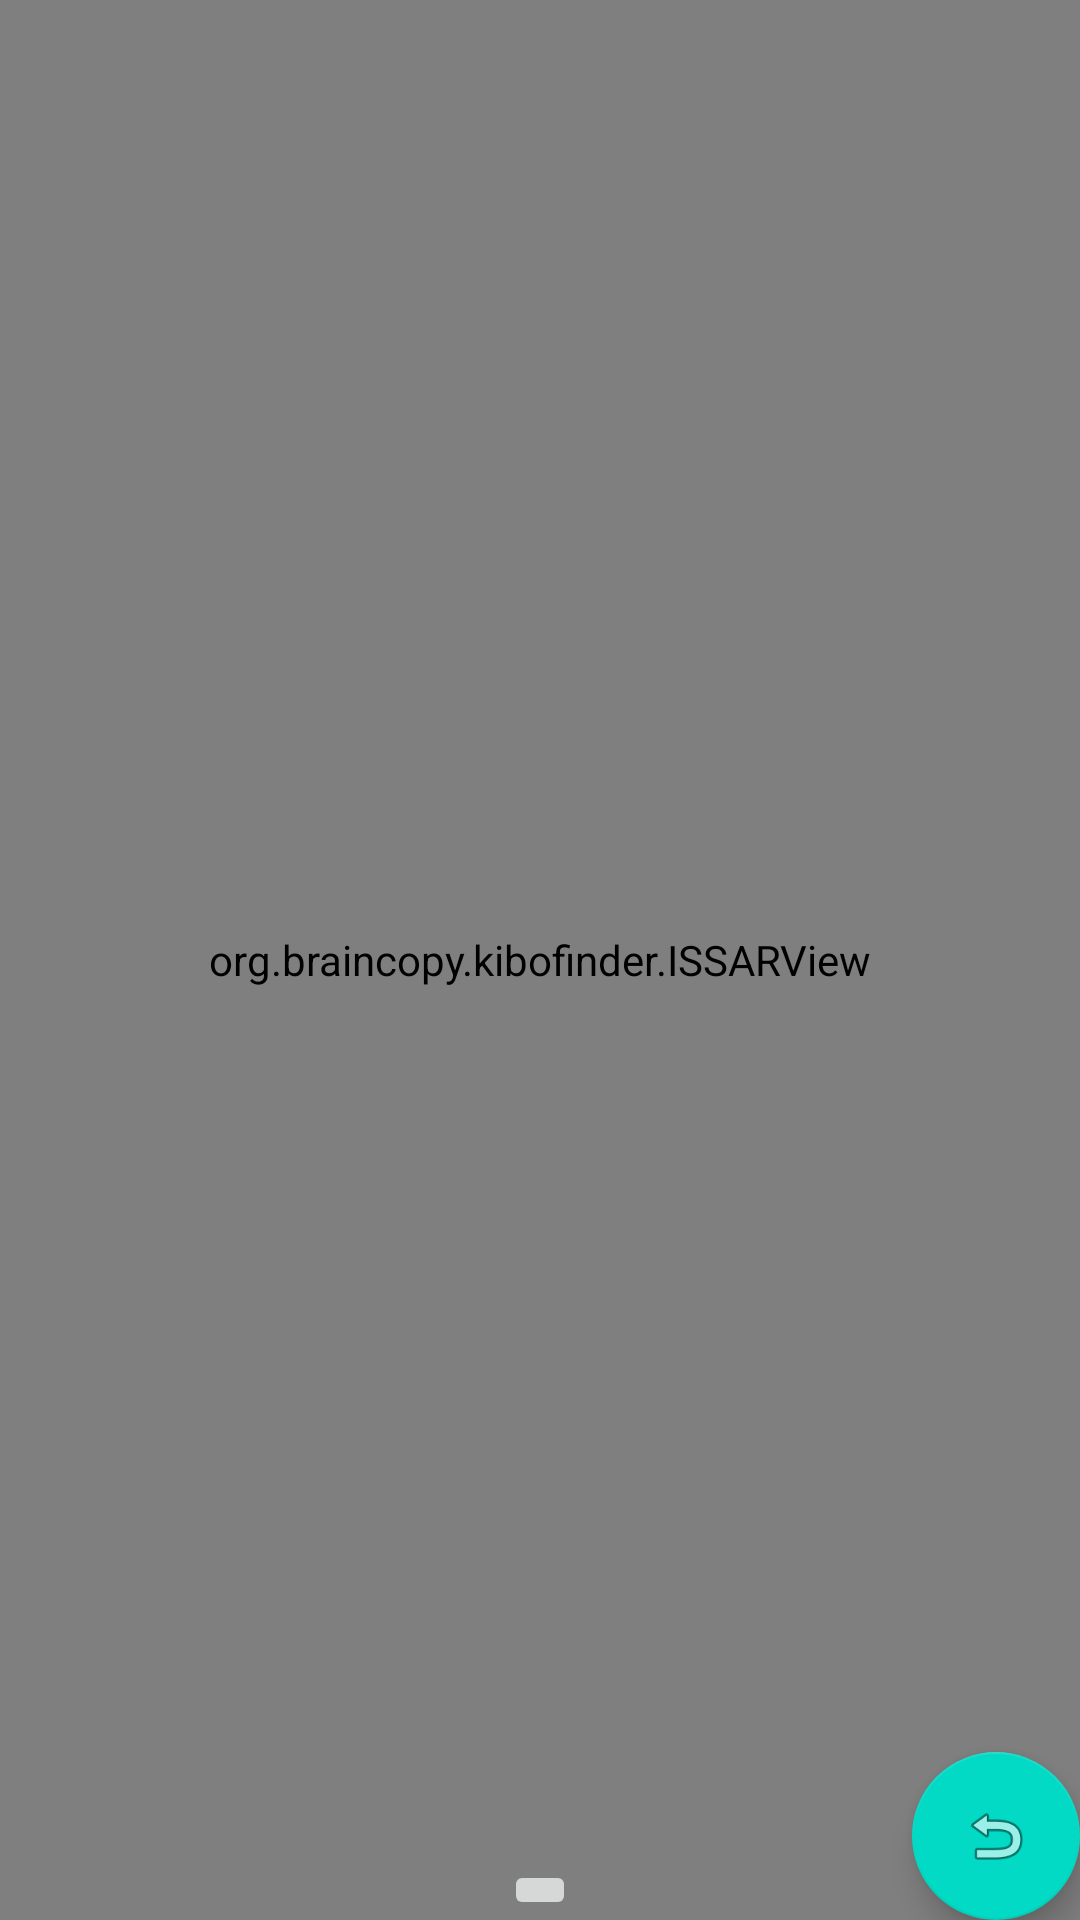

Screen size 1080×1920. Icon name, then its center in pixels as (x=x, y=y):
revert: (x=996, y=1836)
